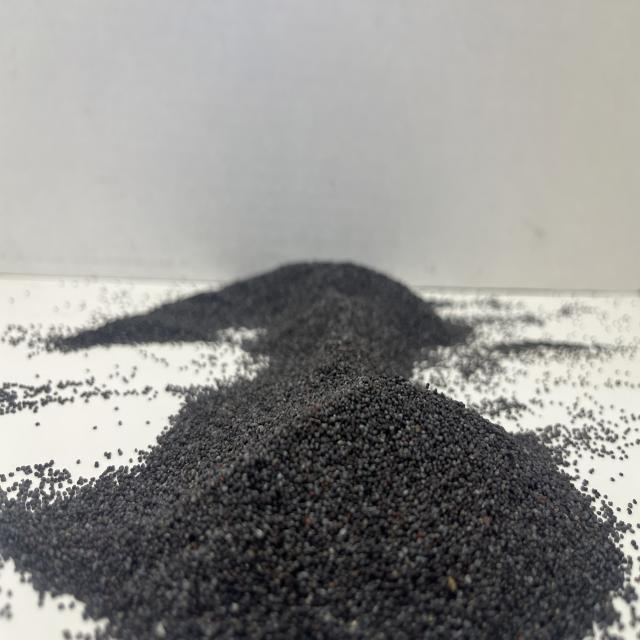Poppy Seeds: (47, 254, 623, 637)
